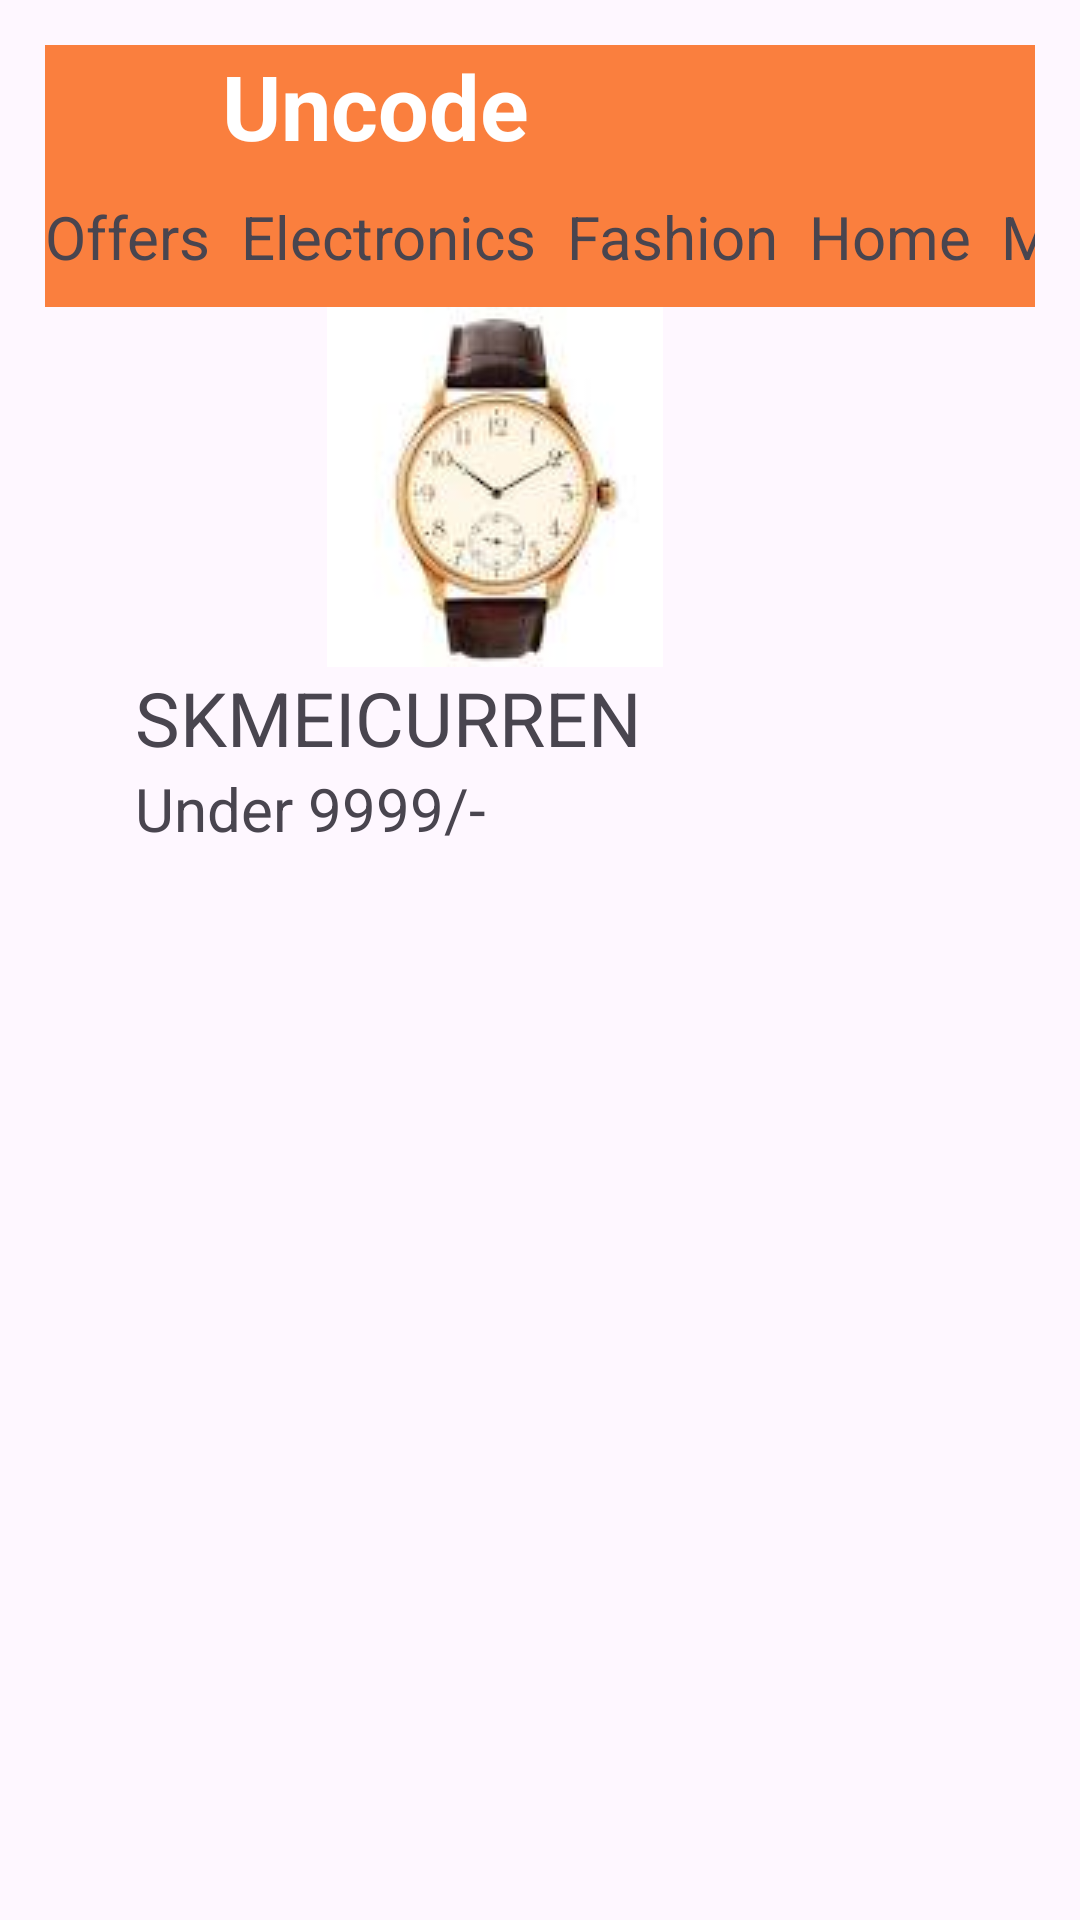

Screen size 1080×1920. Icon name, then its box in pixels as (x1, y1, x2, y2):
watch: (392, 318, 618, 661)
